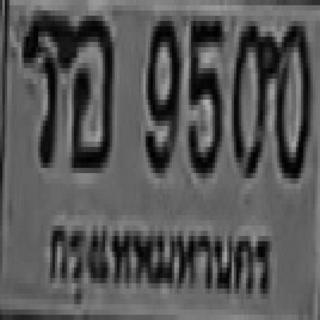A35: (20, 5, 70, 163), (20, 10, 66, 163)
A43: (68, 11, 111, 168)
N00: (230, 16, 274, 173), (273, 16, 309, 173)
N05: (186, 11, 222, 173)
N09: (143, 16, 179, 168)
P04: (42, 206, 272, 317)
